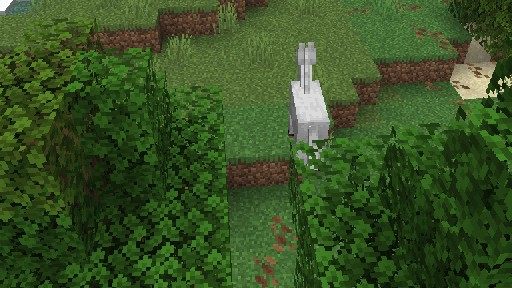horse: (287, 41, 329, 174)
